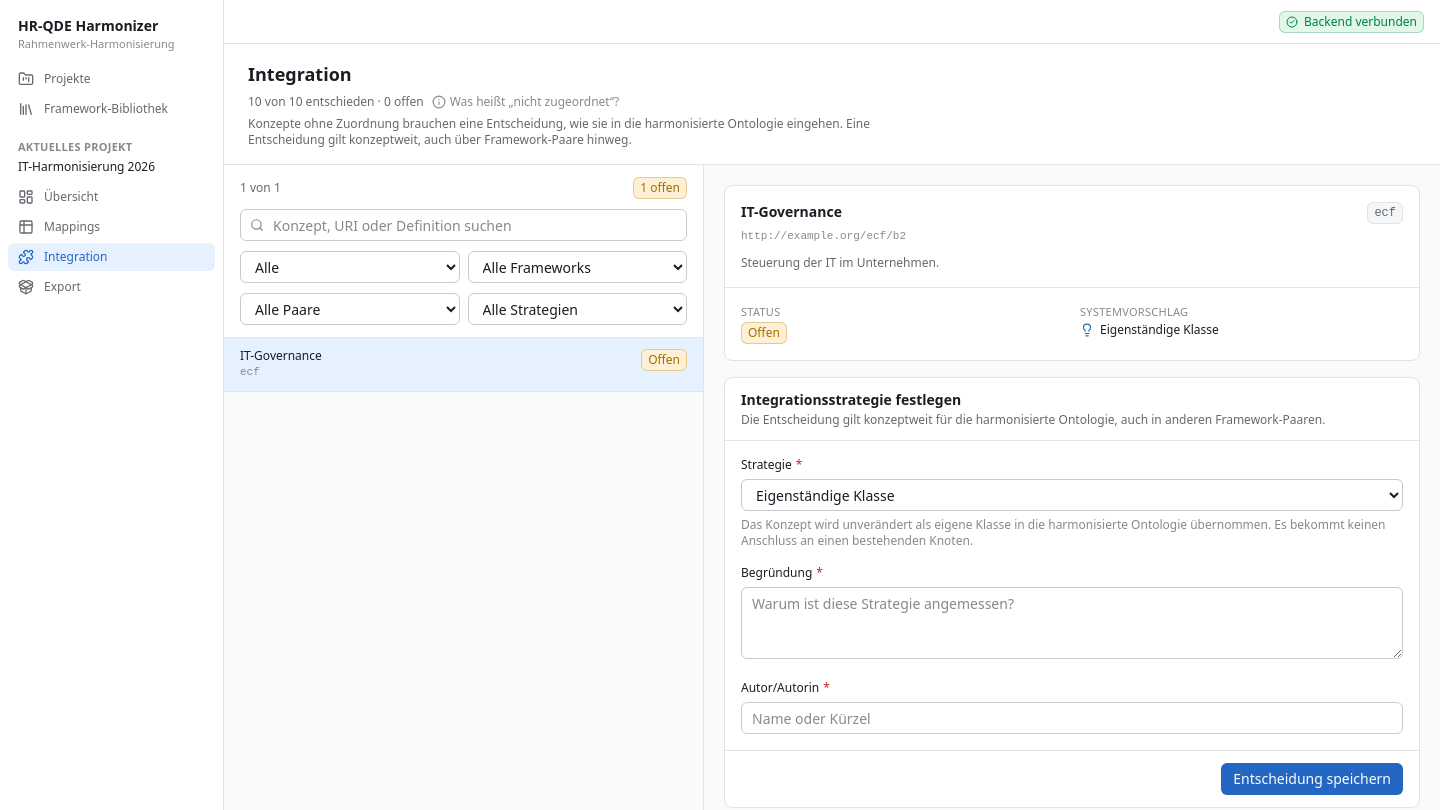
Test case: Integrationsentscheidung speichern › verlangt bei „An Skelett anhängen“ eine Zielklasse
Select "An Skelett anhängen" in the dropdown labelled "Strategie*" at (1072, 495), box [741,479,1403,511]
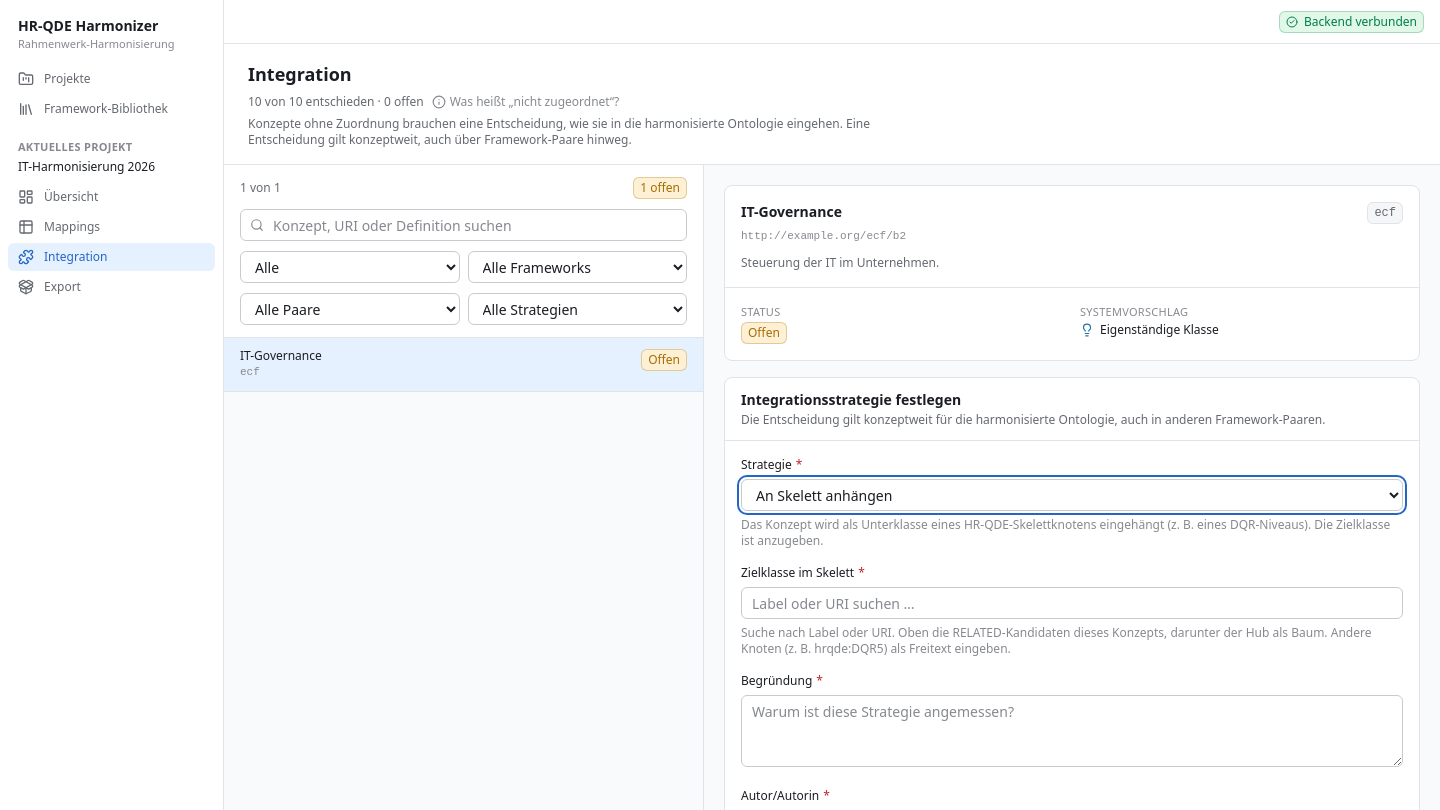
Type "Nah an einer Oberklasse." into the text box labelled "Begründung*" at (1072, 731), box [741,695,1403,767]
(page scrolled)
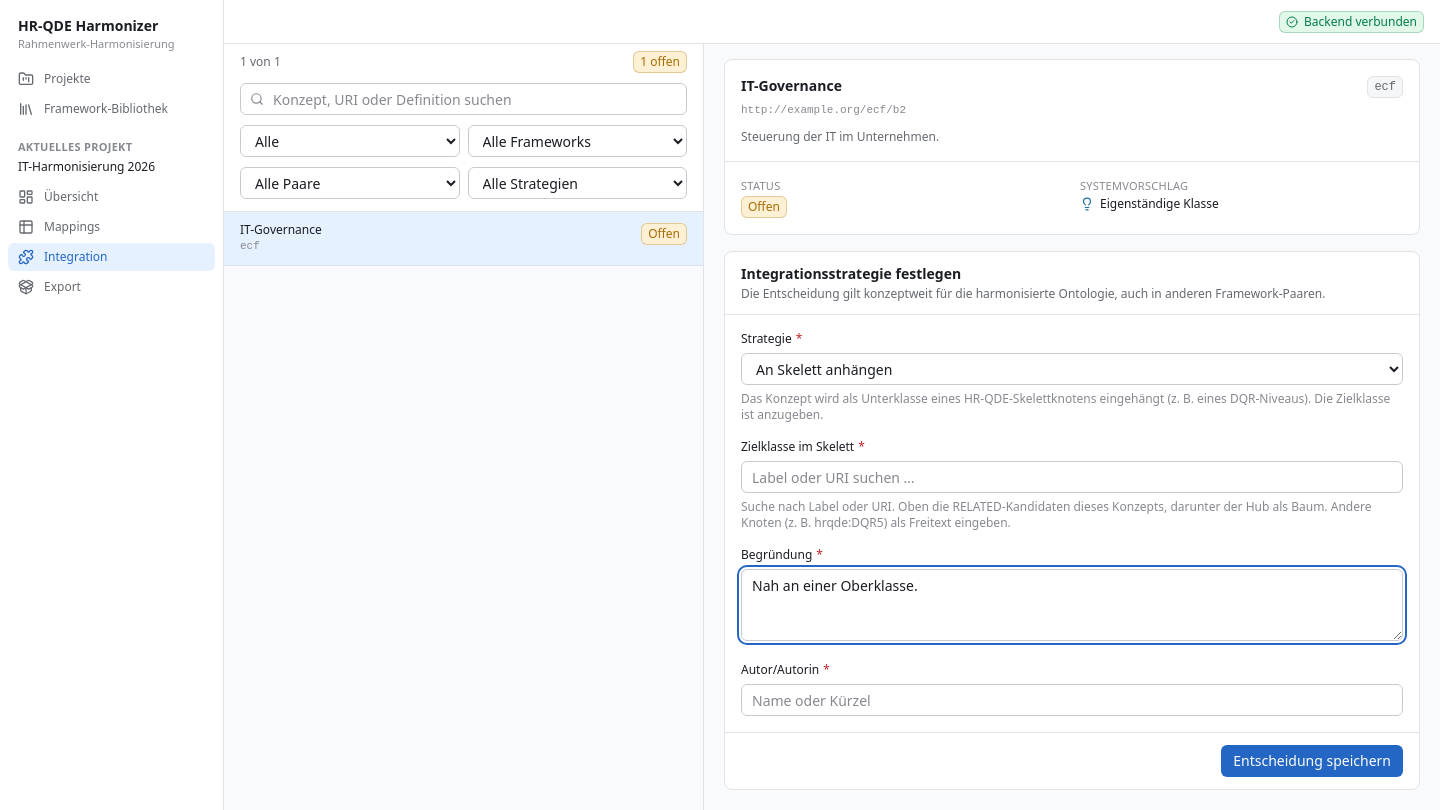
Type "AO" into the field labelled "Autor/Autorin*" at (1072, 700), box [741,684,1403,716]
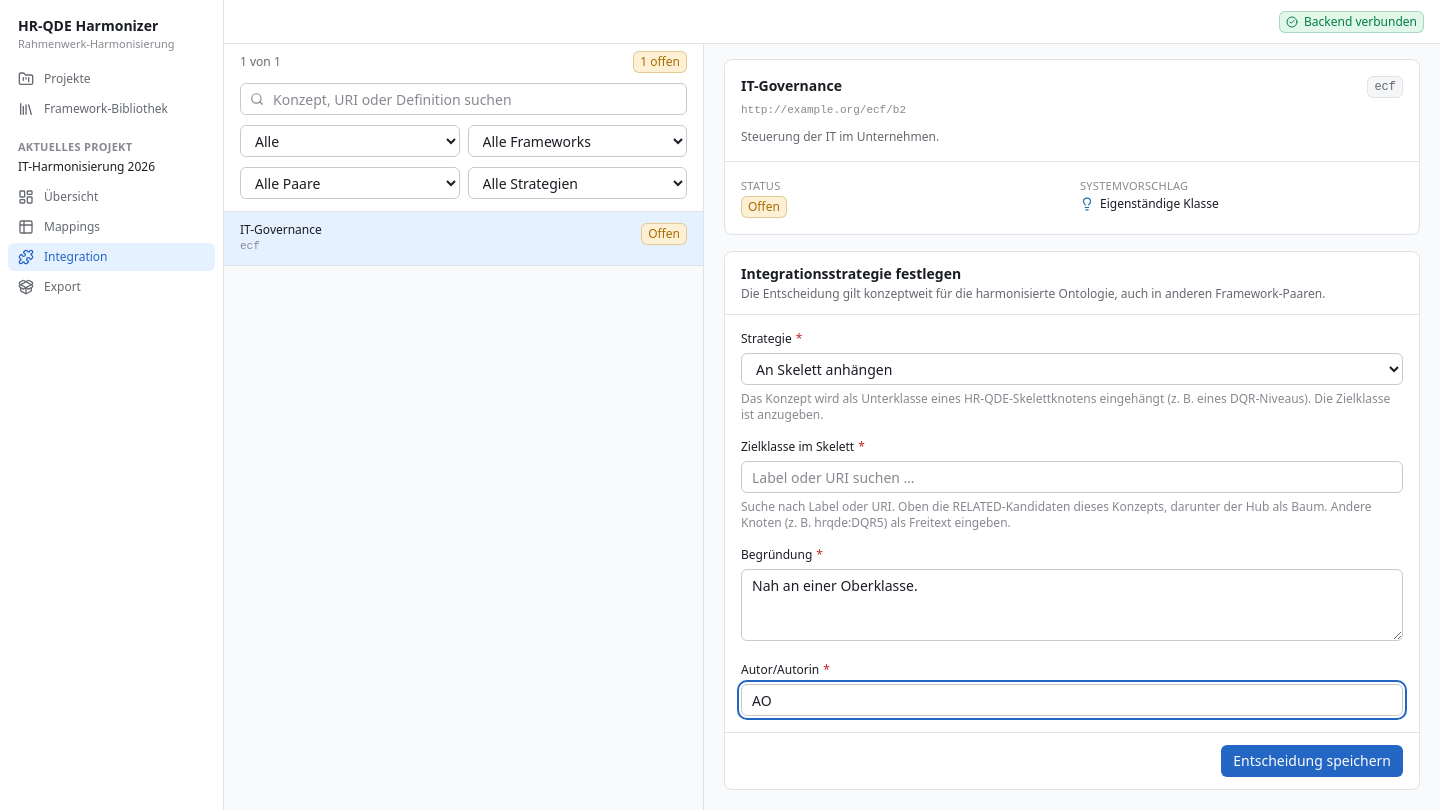
Click the button "Entscheidung speichern" at (1312, 761), box [1221,745,1403,777]
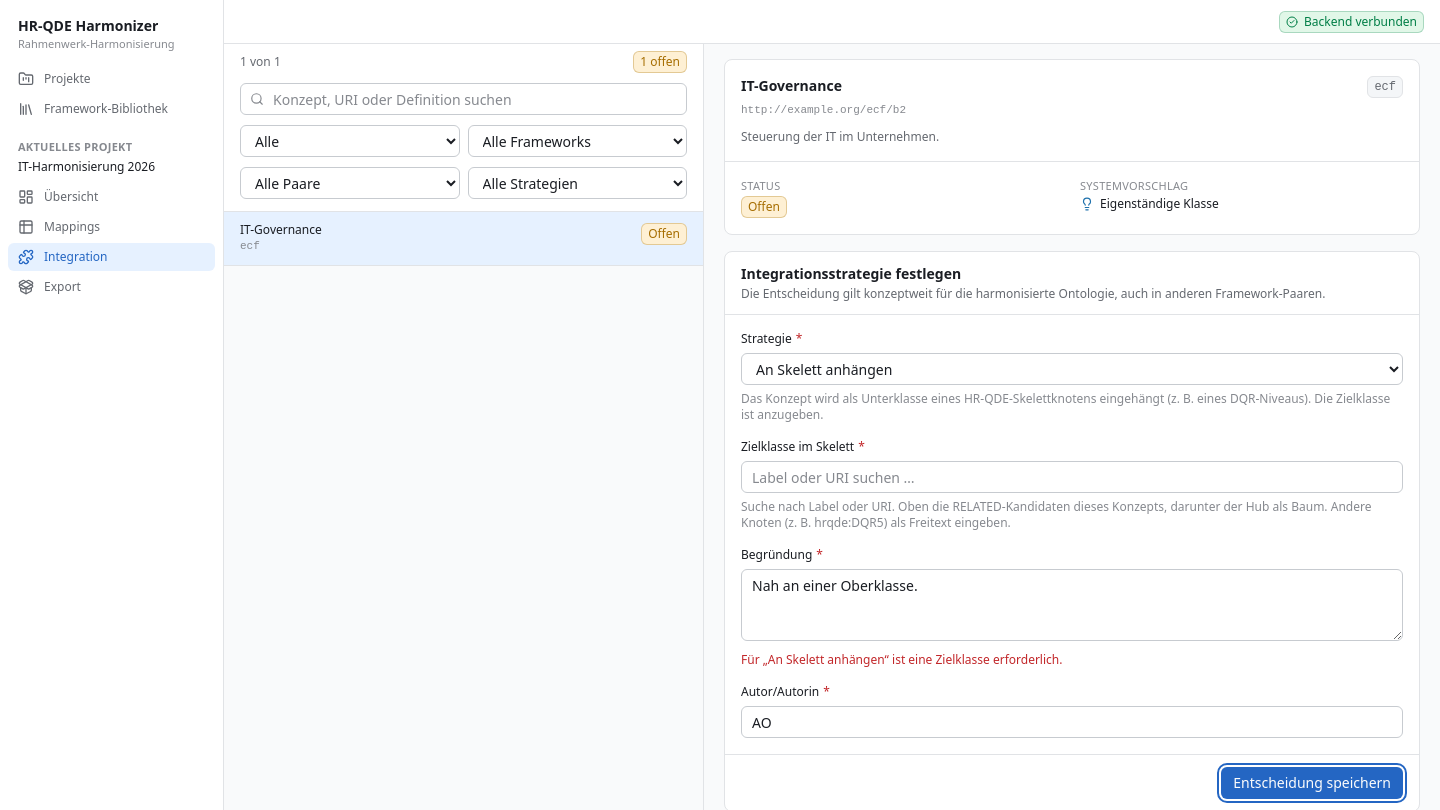
Check: the text "Für „An Skelett anhängen“ ist eine Zielklasse erforderlich." is shown, box [741,651,1062,668]
